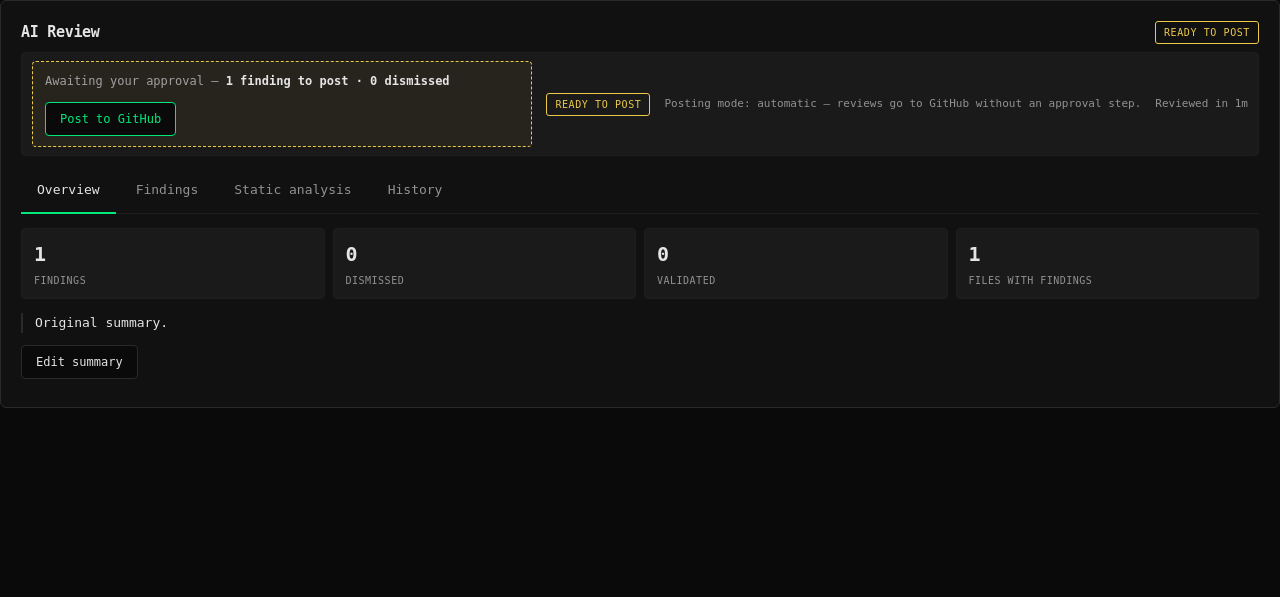
Scenario: ReviewPanelComponent — read-only panel states (plan Step 7b) › staged posting controls (plan Step 8) › edits the summary: prefill, dirty gating, save
Click the button "Edit summary" at (79,362), box left=21, top=345, right=138, bottom=379
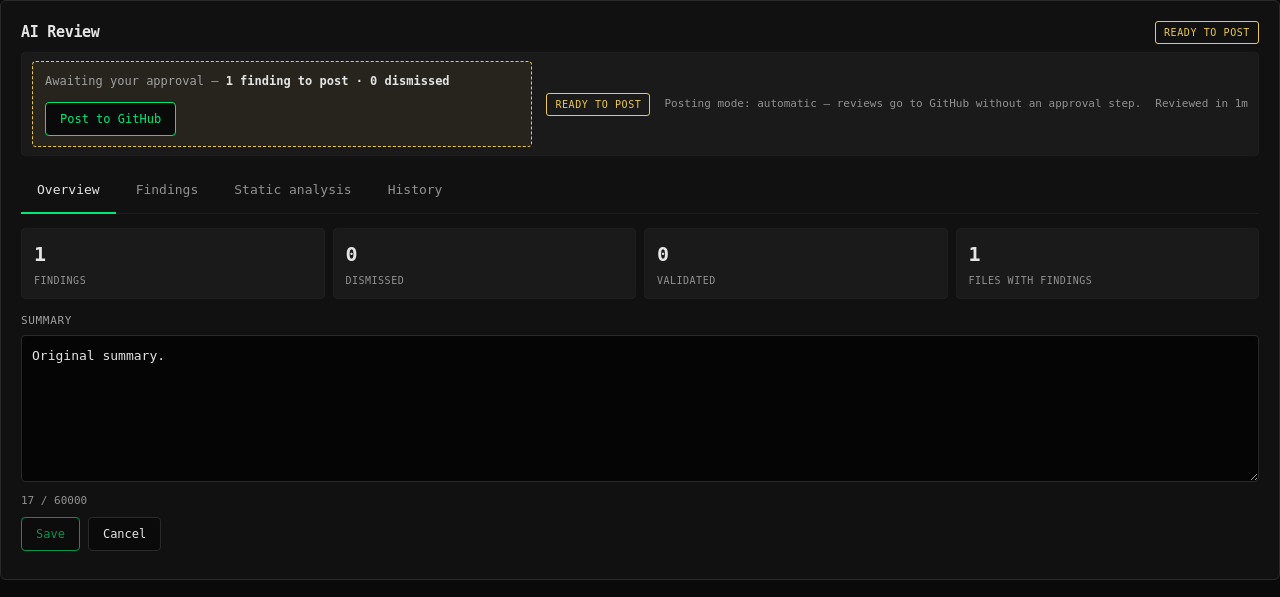
Replace the text in the text box labelled "Summary" with "Edited by hand." at (640,408), box left=21, top=335, right=1259, bottom=482
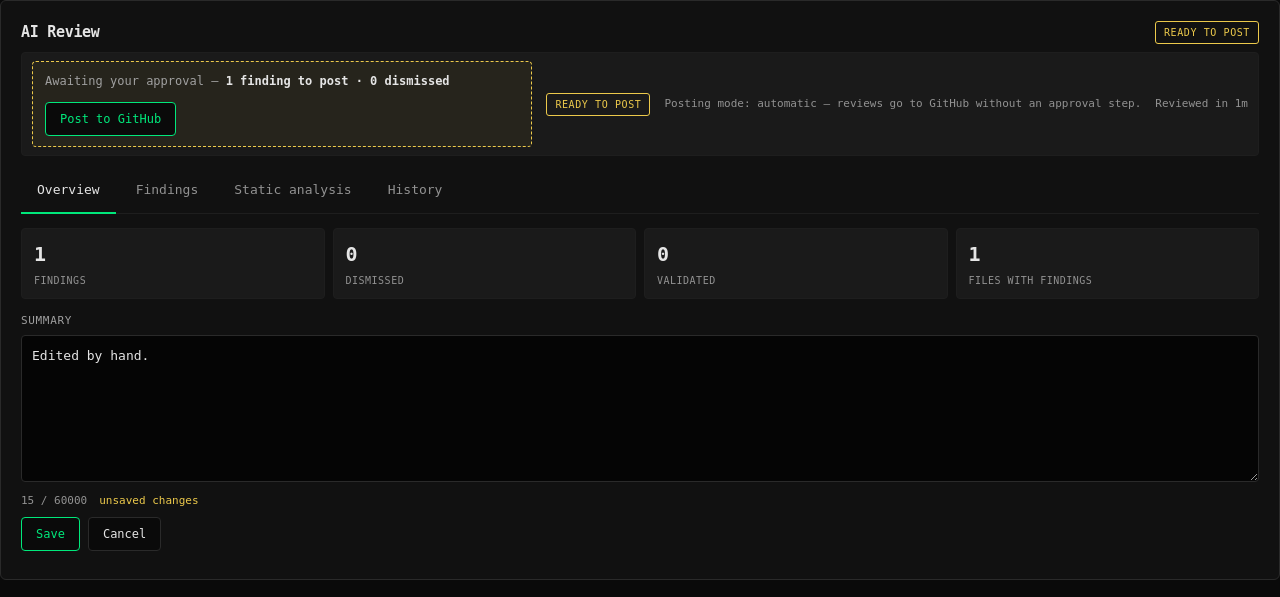
Click the button "Save" at (50,534), box left=21, top=517, right=80, bottom=551
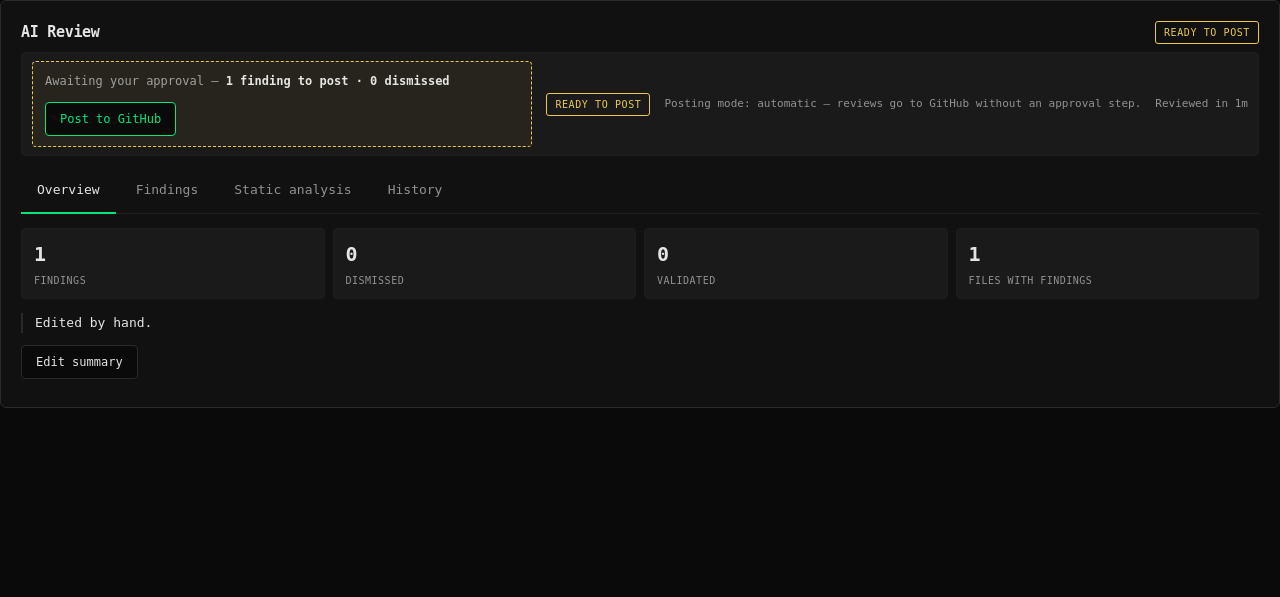
Expected: the text "Edited by hand." is shown, left=21, top=312, right=1259, bottom=333
